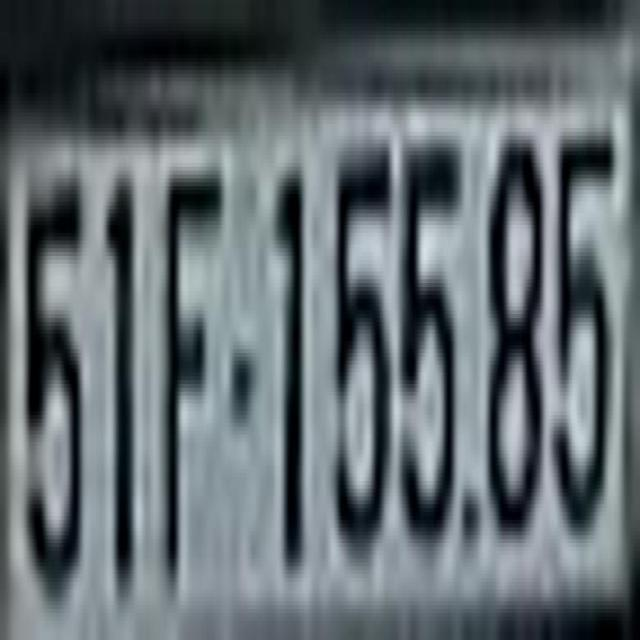1: (268, 155, 308, 582), (105, 159, 140, 582)
5: (548, 120, 617, 555), (398, 128, 464, 559), (22, 162, 84, 590), (333, 116, 390, 558)
F: (160, 143, 224, 582)
